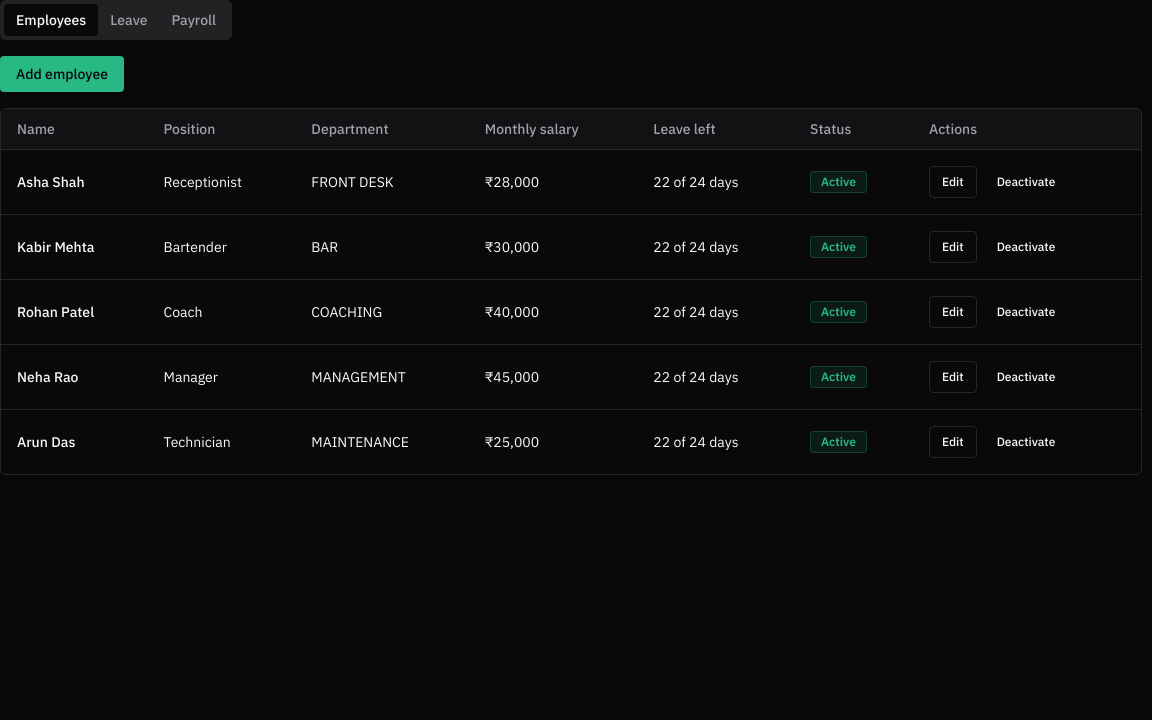
Scenario: Staff workspace: allowance, deactivation and leave balance › deactivates only after confirming, then offers to reactivate
Click the button with aria-label "Deactivate Asha Shah" at (1026, 182), box [985,166,1067,198]
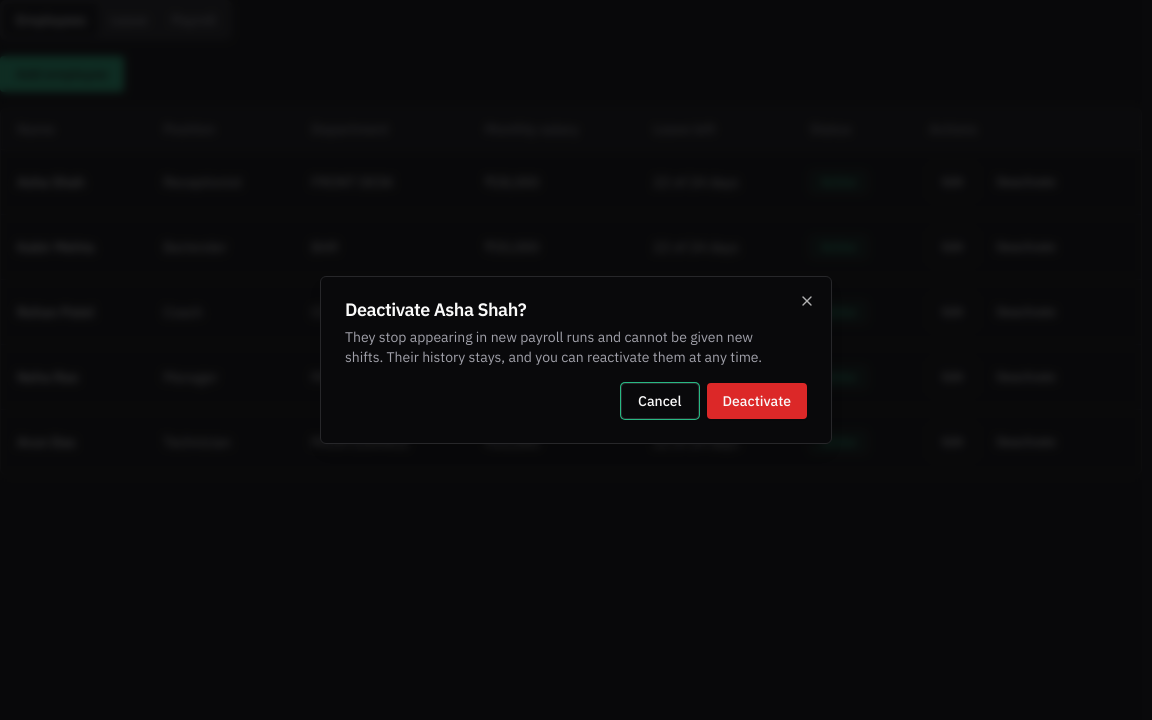
Click the button "Cancel" at (660, 401), box [621,383,698,419]
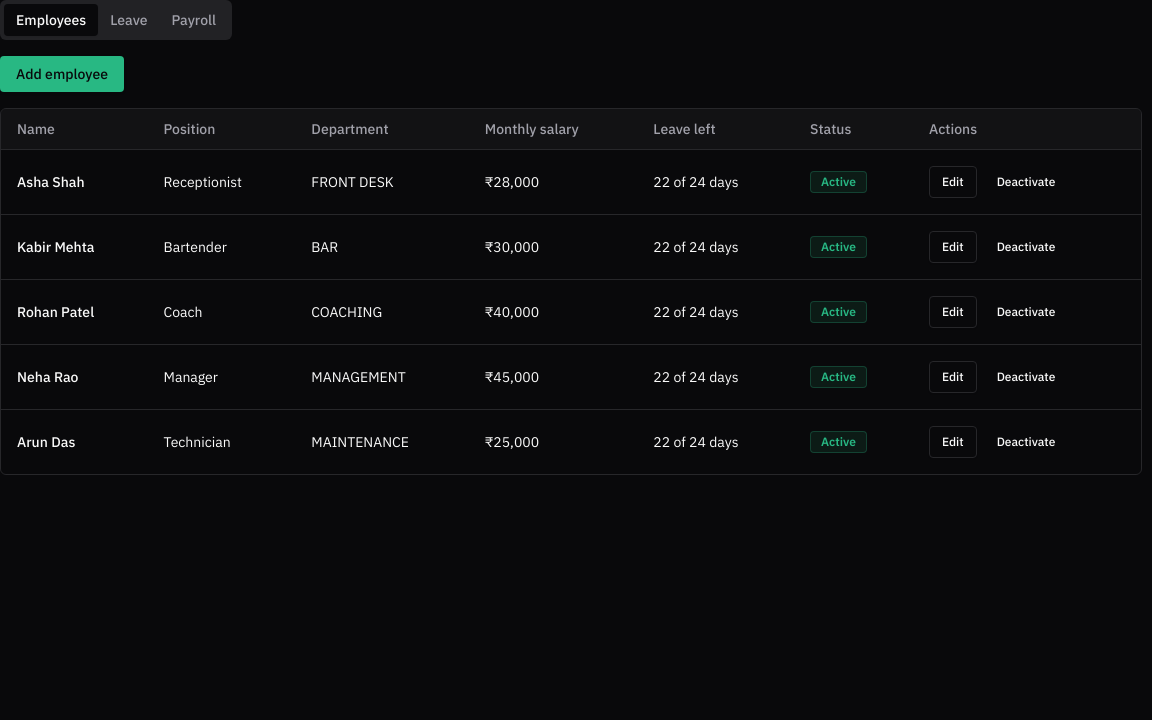
Check: the dialog is gone
Click the button with aria-label "Deactivate Asha Shah" at (1026, 182), box [985,166,1067,198]
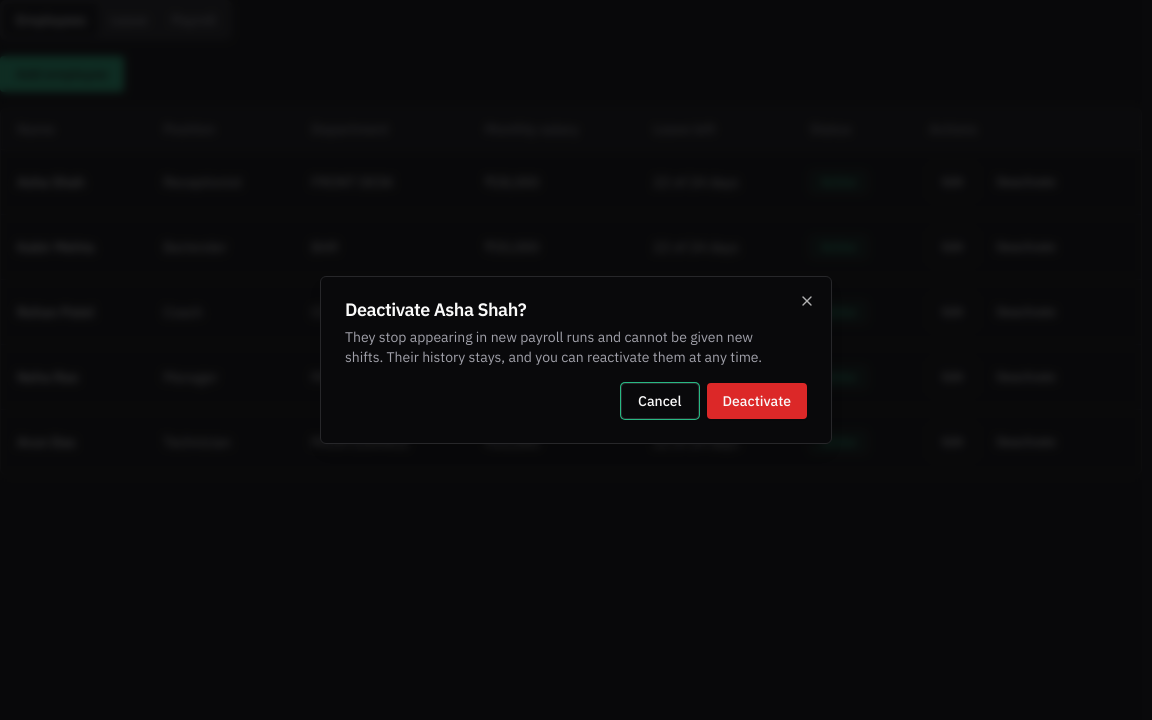
Click the button "Deactivate" at (757, 401), box [706,383,807,419]
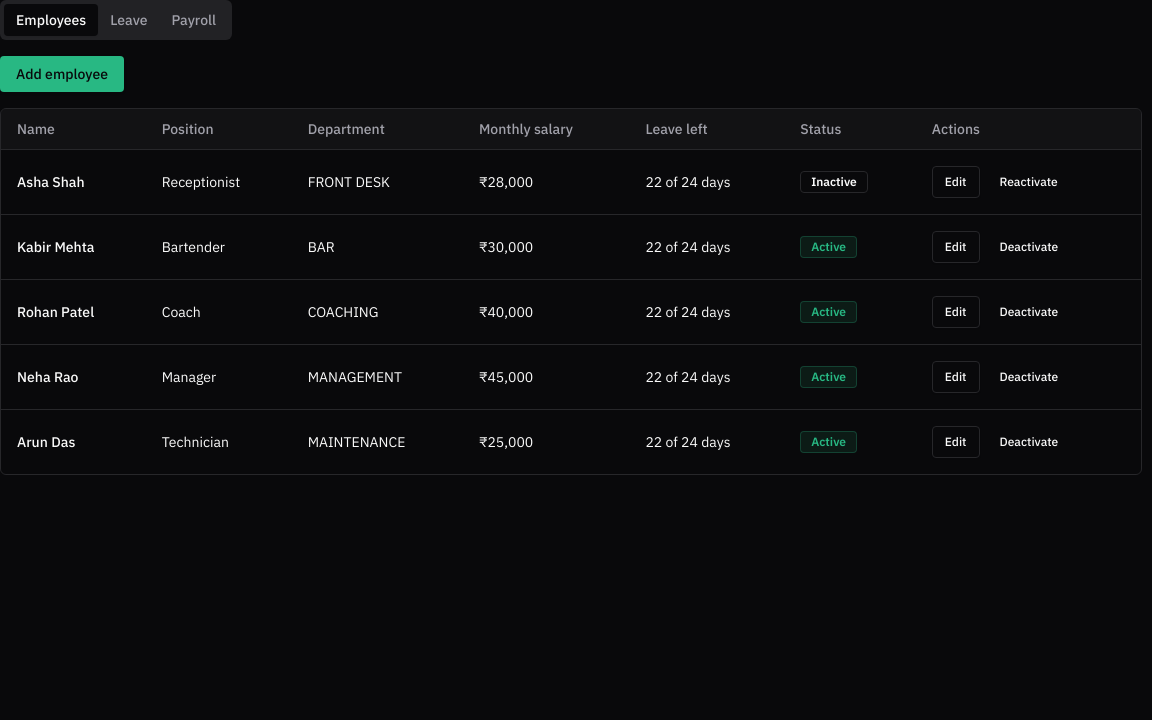
Click the button with aria-label "Reactivate Asha Shah" at (1029, 182), box [988,166,1070,198]
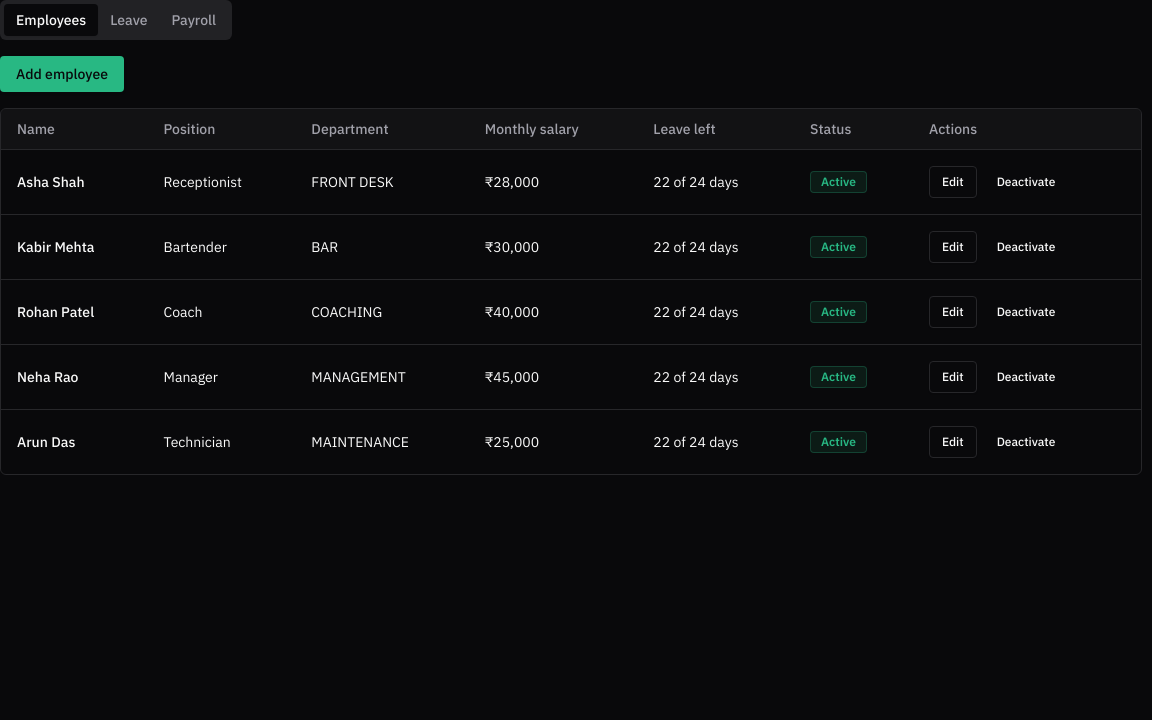
Check: the button with aria-label "Deactivate Asha Shah" is shown, box [985,166,1067,198]
